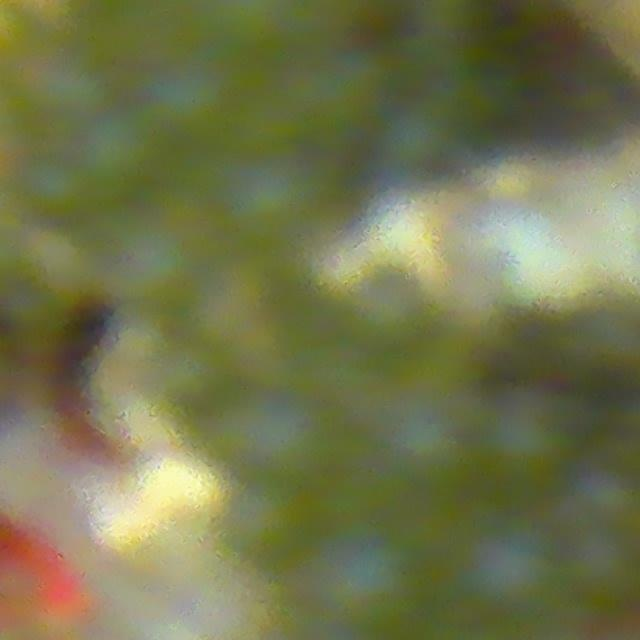SeaGrape: (309, 525, 416, 631), (456, 514, 562, 618), (213, 153, 326, 243), (375, 390, 464, 494), (145, 331, 241, 416), (490, 397, 568, 498), (97, 224, 186, 309), (219, 405, 308, 483), (219, 483, 304, 564), (349, 268, 427, 349), (83, 107, 154, 194), (567, 535, 640, 616), (162, 82, 245, 153), (283, 283, 353, 364), (21, 169, 92, 232), (17, 61, 92, 119)
